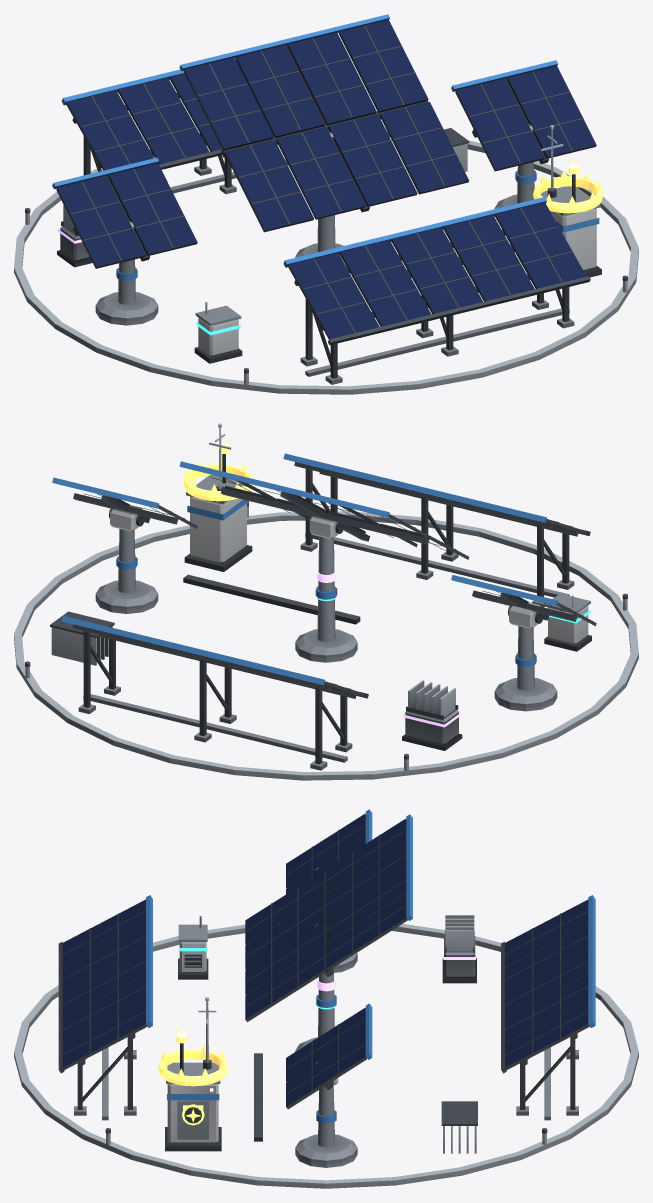
File: solar_array_xl.glb
3 renders of one model, top to bottom at view 1: azimuth 30°, elevation 25°; view 2: azimuth 150°, elevation 25°; view 3: azimuth 270°, elevation 25°, orthographic.
Parts seen in each view (by area): view 1: Base, L2, L3, L5, L4; view 2: Base, L2, L4, L3, L5; view 3: Base, L2, L4, L5, L3.
Boxes of the visible parts, x1,y1,x2,y2 form: Base: [52, 14, 601, 384]; L2: [14, 125, 638, 394]; L3: [194, 302, 242, 363]; L5: [533, 159, 603, 213]; L4: [57, 128, 469, 267]; Base: [52, 453, 596, 770]; L2: [14, 423, 638, 780]; L4: [50, 570, 462, 750]; L3: [316, 593, 591, 651]; L5: [183, 439, 252, 501]; Base: [58, 809, 595, 1167]; L2: [14, 924, 638, 1188]; L4: [317, 915, 477, 1153]; L5: [158, 1028, 228, 1125]; L3: [178, 916, 336, 1009].
Size of the model in its own units: 11.02 by 3.76 by 11.02.
